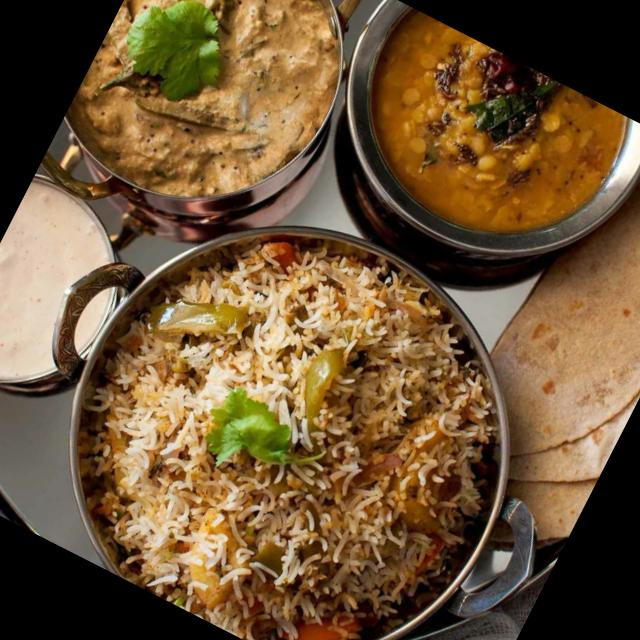Biryani: (21, 167, 561, 640)
